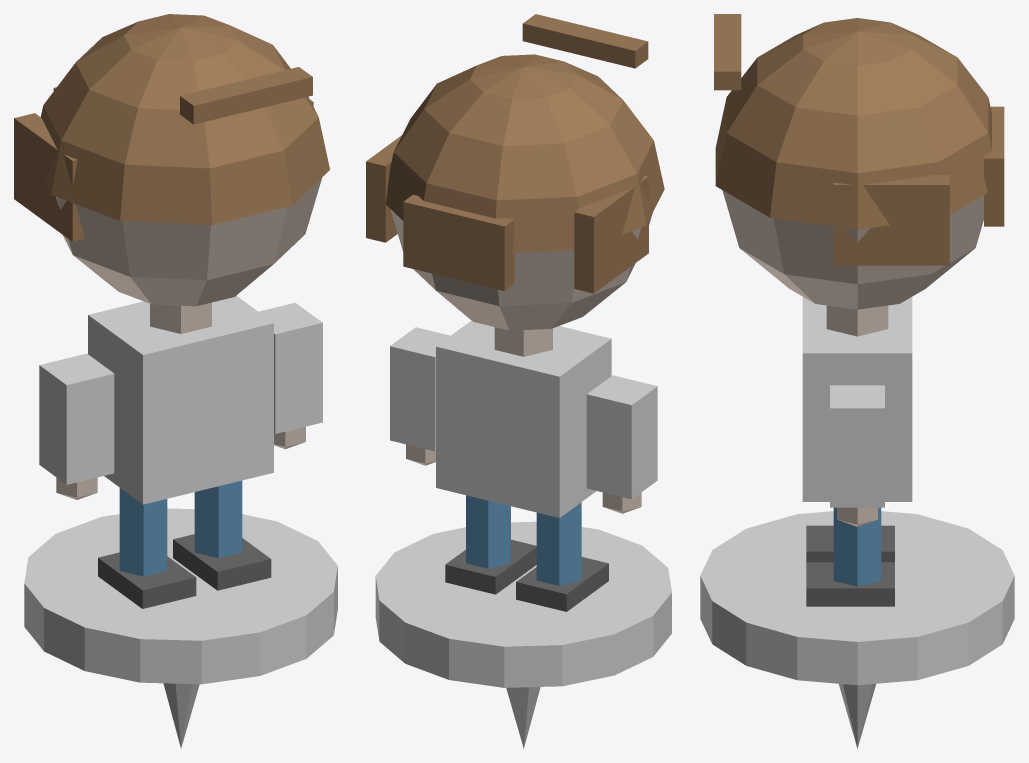
The model's file is chibi_standard.glb.
The picture shows the model from 3 angles, left to right: view 1: azimuth 30°, elevation 25°; view 2: azimuth 150°, elevation 25°; view 3: azimuth 270°, elevation 25°; orthographic projection. The views are drawn at different scales.
Parts seen in each view (by area): view 1: chibi_standard; view 2: chibi_standard; view 3: chibi_standard.
Part boxes in pixels (bbox=[...]): chibi_standard: bbox=[14, 14, 337, 748]; chibi_standard: bbox=[366, 14, 671, 748]; chibi_standard: bbox=[700, 14, 1014, 748].
Size of the model in its own units: 0.46 by 1.16 by 0.46.
